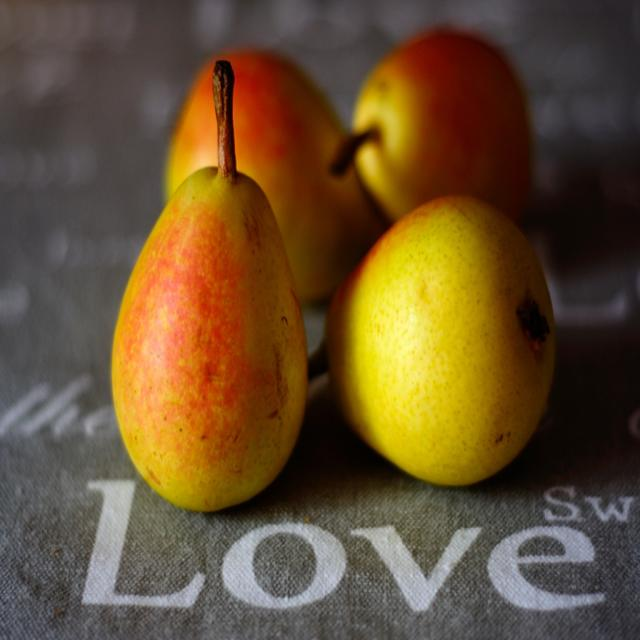pear: (324, 186, 559, 485), (113, 163, 308, 511), (158, 45, 384, 295), (344, 23, 532, 223)
